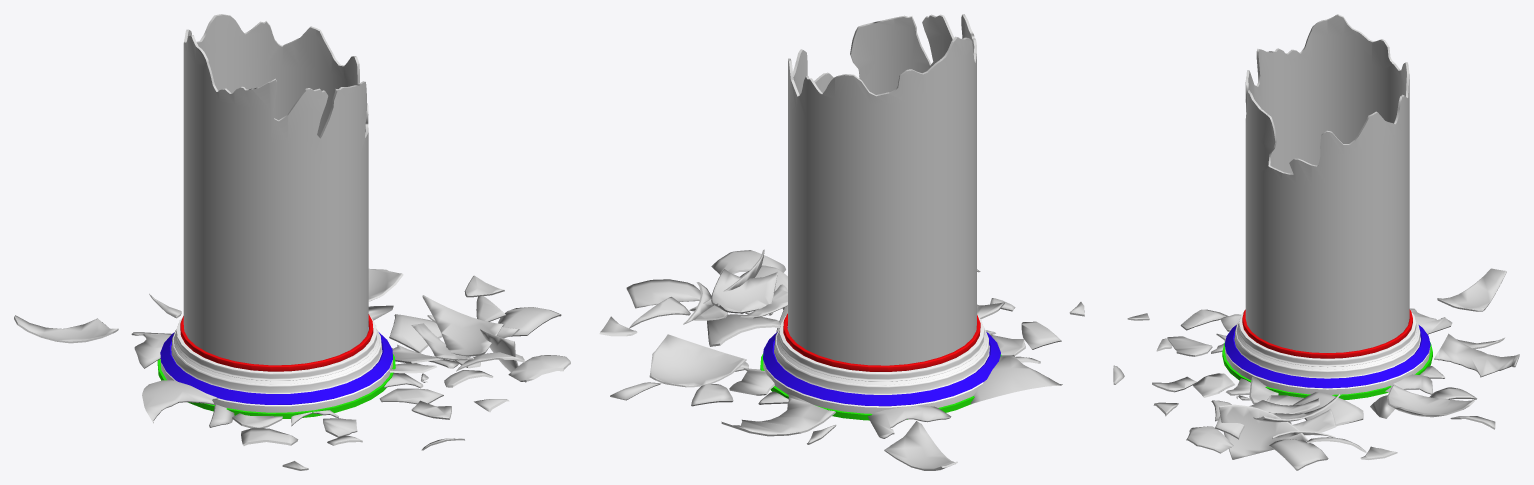
Rendered from glasscontainer_04.fbx.
3 renders of one model, left to right at view 1: azimuth 30°, elevation 25°; view 2: azimuth 150°, elevation 25°; view 3: azimuth 270°, elevation 25°, orthographic. The views are drawn at different scales.
Parts seen in each view (by area): view 1: Sphere.004, Sphere.007_cell.008, Sphere.000; view 2: Sphere.004, Sphere.007_cell.008, Sphere.000; view 3: Sphere.004, Sphere.007_cell.008, Sphere.000.
Part boxes in pixels (box(x1,y1,x2,y2)): Sphere.004: box(183, 14, 368, 365); Sphere.007_cell.008: box(14, 268, 570, 470); Sphere.000: box(157, 314, 395, 418); Sphere.004: box(788, 14, 976, 365); Sphere.007_cell.008: box(599, 249, 1084, 470); Sphere.000: box(760, 313, 1001, 420); Sphere.004: box(1245, 14, 1409, 352); Sphere.007_cell.008: box(1113, 268, 1519, 470); Sphere.000: box(1222, 309, 1432, 399).
Size of the model in its own units: 266 by 217 by 244.
